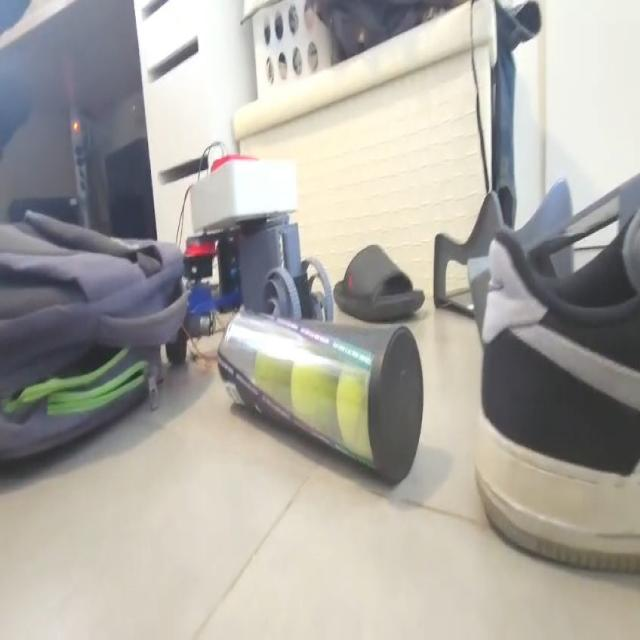Robot: (166, 150, 335, 368)
